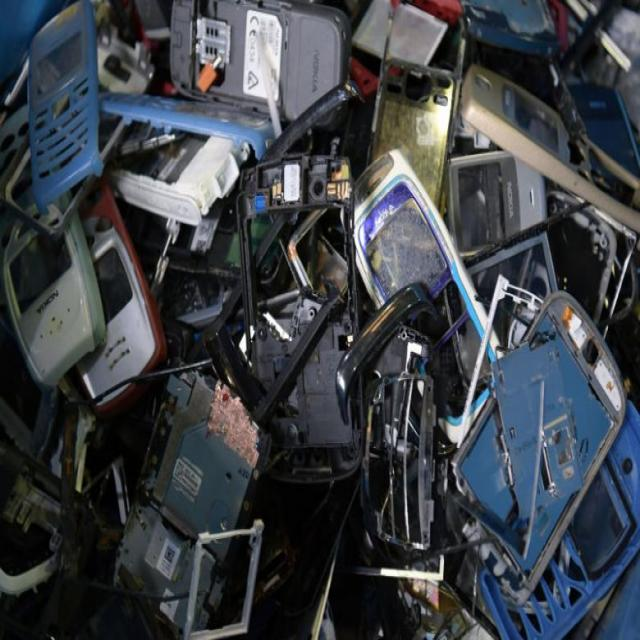hazard: (5, 21, 614, 622)
